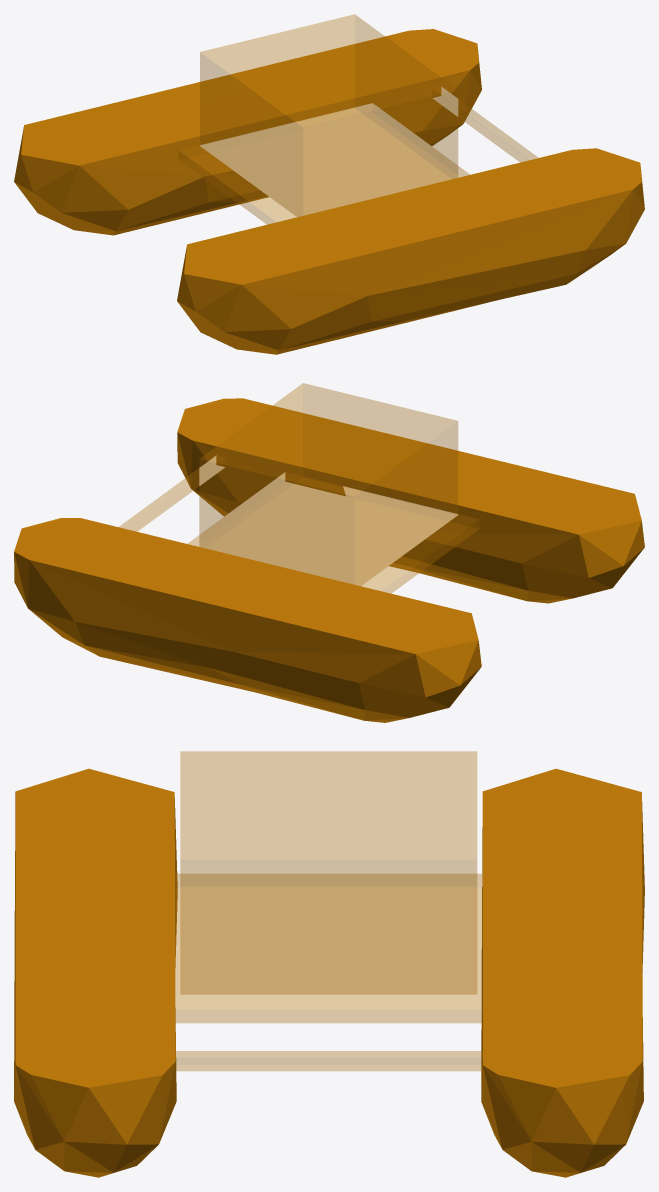
File: omni_boat_collision.obj
The picture shows the model from 3 angles, top to bottom: view 1: azimuth 30°, elevation 25°; view 2: azimuth 150°, elevation 25°; view 3: azimuth 270°, elevation 25°; orthographic projection. The views are drawn at different scales.
Visible parts, largest first — view 1: right_hull_collision, left_hull_collision, electrical_box_collision, electrical_box_mount_collision, sensor_rail_collision; view 2: left_hull_collision, right_hull_collision, electrical_box_collision, electrical_box_mount_collision, sensor_rail_collision; view 3: electrical_box_collision, left_hull_collision, right_hull_collision, electrical_box_mount_collision, sensor_rail_collision.
Boxes of the visible parts, <box> form: right_hull_collision: <box>177,148,644,354</box>; left_hull_collision: <box>14,29,481,235</box>; electrical_box_collision: <box>200,14,457,216</box>; electrical_box_mount_collision: <box>179,103,469,224</box>; sensor_rail_collision: <box>433,87,538,162</box>; left_hull_collision: <box>14,518,481,722</box>; right_hull_collision: <box>177,398,644,603</box>; electrical_box_collision: <box>199,383,457,585</box>; electrical_box_mount_collision: <box>188,472,479,593</box>; sensor_rail_collision: <box>119,456,224,531</box>; electrical_box_collision: <box>180,751,476,994</box>; left_hull_collision: <box>481,768,644,1177</box>; right_hull_collision: <box>14,768,177,1177</box>; electrical_box_mount_collision: <box>175,874,481,1022</box>; sensor_rail_collision: <box>176,1051,482,1070</box>.
Size of the model in its own units: 1.07 by 0.4242 by 0.8951.
